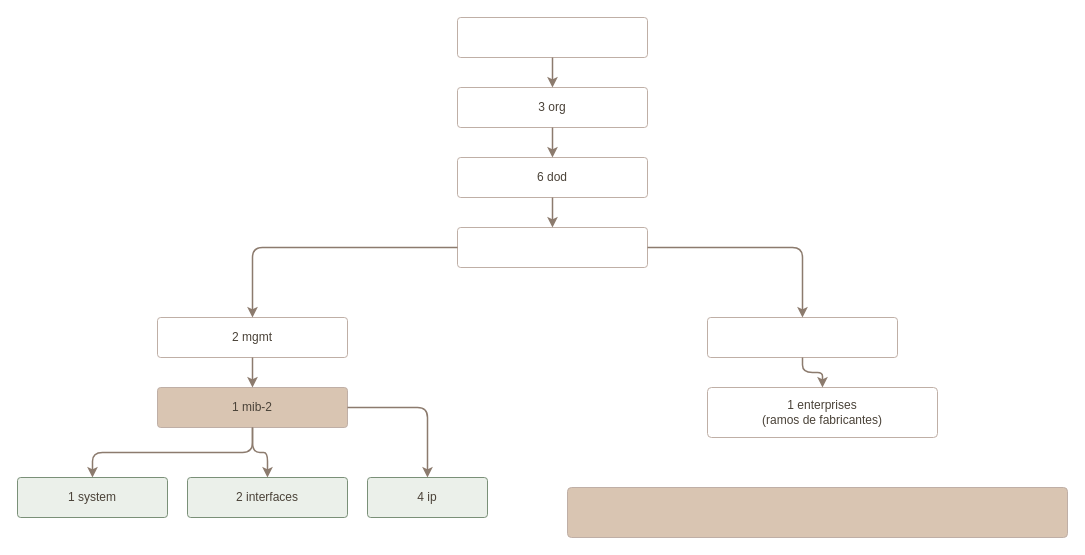
The diagram is 1085 pixels wide and 555 high, and some of its shapes have lost their labels. The shapes that lost their labels are listed below. From the top down, each one's centre as x and y in pixels, then its label:
the point at 552,37: 1 iso
the point at 552,247: 1 internet
the point at 802,337: 4 private
the point at 817,512: OID de sysUpTime, 1.3.6.1.2.1.1.3.0
